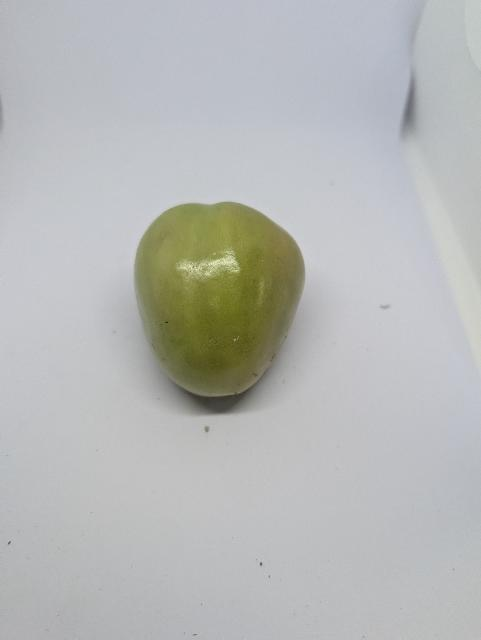green: (131, 200, 307, 400)
